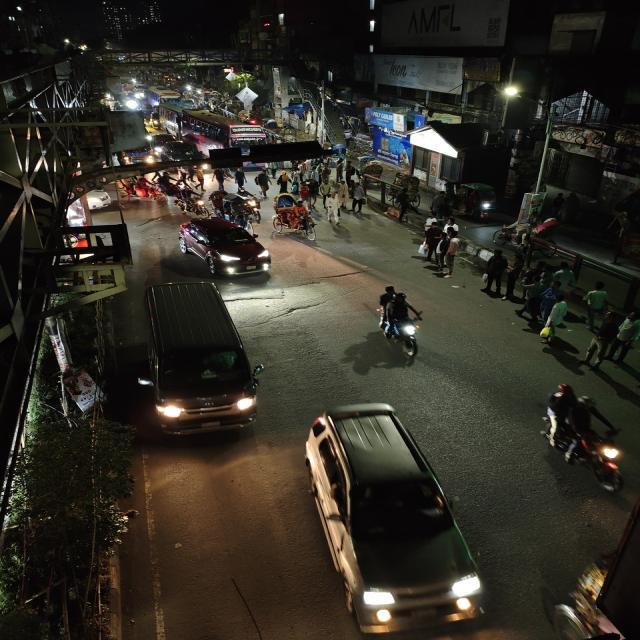bus: (171, 110, 270, 150)
car: (298, 398, 487, 636), (137, 279, 269, 442), (174, 217, 276, 279), (156, 140, 207, 163)
motorcycle: (532, 382, 632, 496), (366, 282, 431, 361)
pedestrian: (585, 310, 619, 370), (609, 309, 639, 367), (539, 296, 574, 340), (481, 249, 510, 295), (584, 281, 612, 327), (437, 232, 466, 276), (392, 187, 421, 226), (416, 224, 444, 260), (520, 286, 546, 323), (428, 190, 457, 221), (550, 261, 577, 293), (526, 258, 551, 290), (322, 193, 347, 225), (348, 181, 369, 215), (302, 178, 324, 206), (255, 168, 272, 198), (232, 167, 250, 191), (276, 168, 292, 195), (211, 168, 230, 190)
rickshaw: (270, 193, 318, 240), (124, 173, 163, 206)
